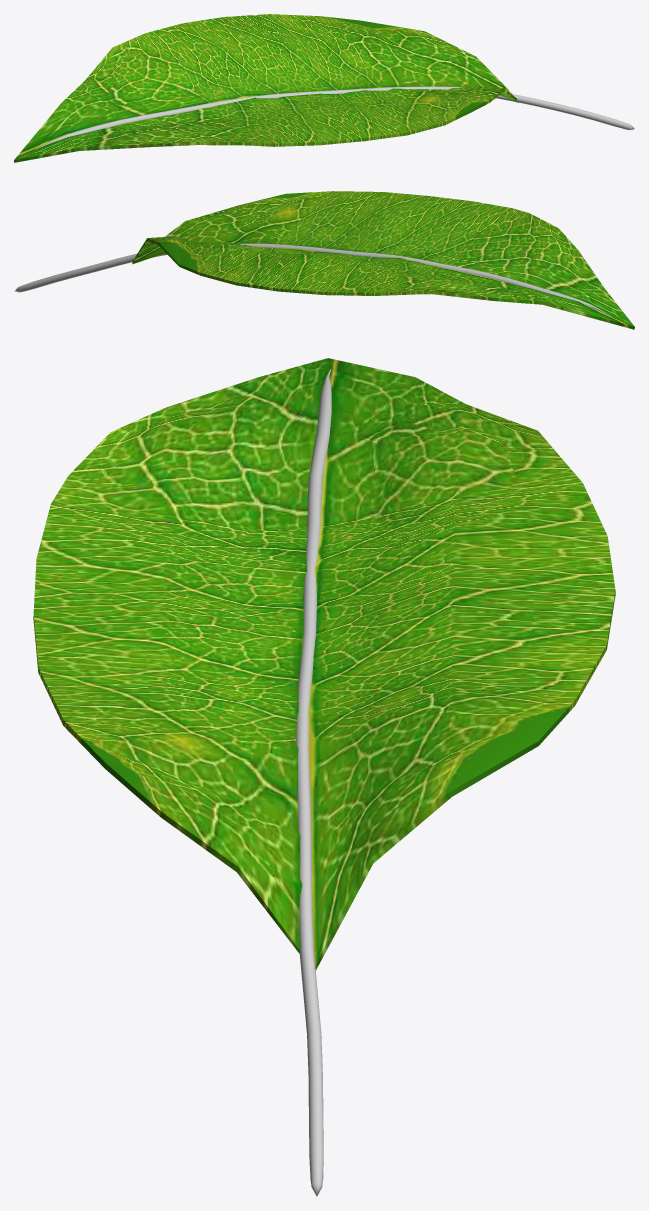
File: leaf.obj
The picture shows the model from 3 angles, top to bottom: view 1: azimuth 30°, elevation 25°; view 2: azimuth 150°, elevation 25°; view 3: azimuth 270°, elevation 25°; orthographic projection. The views are drawn at different scales.
Parts seen in each view (by area): view 1: leaf; view 2: leaf; view 3: leaf.
Part boxes in pixels (x1,y1,x2,y2): leaf: [14, 14, 634, 162]; leaf: [14, 191, 634, 329]; leaf: [33, 358, 615, 1196].
Bounding box in the file's own units: 4.45 × 1.07 × 1.82.
